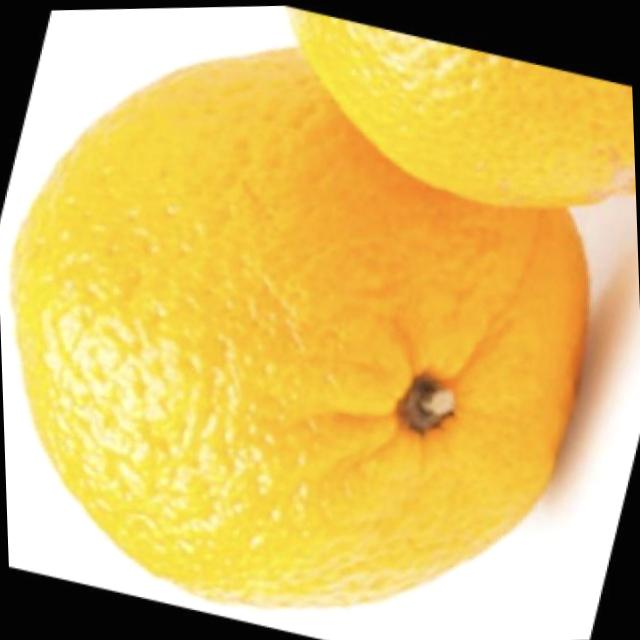Orange: (0, 29, 601, 620), (282, 3, 635, 216)
